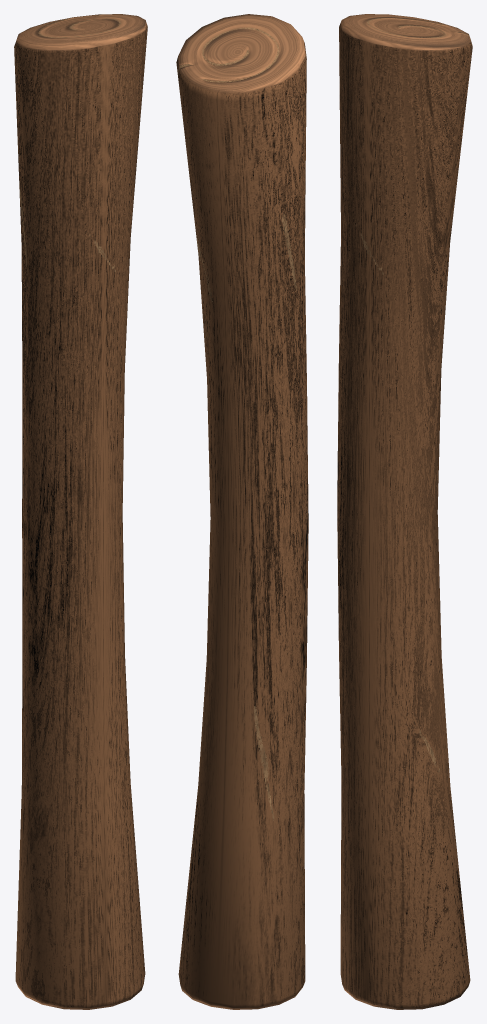
The model's file is WoodStump.fbx.
The picture shows the model from 3 angles, left to right: view 1: azimuth 30°, elevation 25°; view 2: azimuth 150°, elevation 25°; view 3: azimuth 330°, elevation 25°; orthographic projection. The views are drawn at different scales.
Parts seen in each view (by area): view 1: WoodStump; view 2: WoodStump; view 3: WoodStump.
Part boxes in pixels (x1=…): WoodStump: x1=14, y1=14, x2=147, y2=1009; WoodStump: x1=176, y1=14, x2=308, y2=1009; WoodStump: x1=337, y1=14, x2=472, y2=1009.
Bounding box in the file's own units: 0.2538 × 2 × 0.2456.
